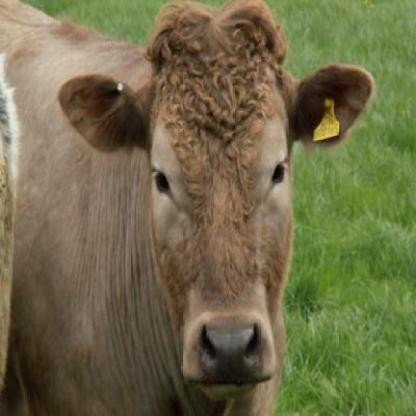lower: (219, 385, 242, 399)
mouth: (184, 311, 274, 402)
upper: (197, 320, 262, 373)
